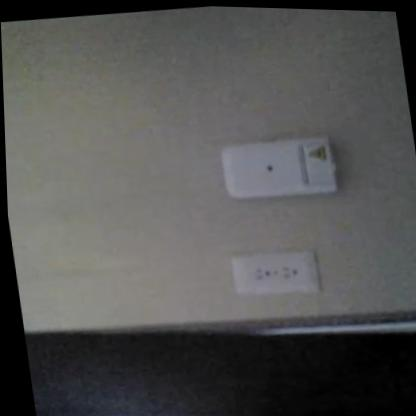OUTLET: (229, 245, 318, 299)
